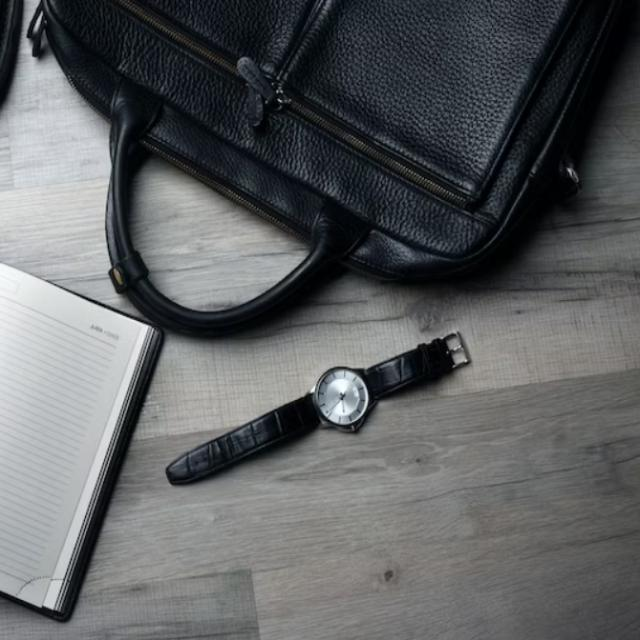Watch: (166, 326, 473, 486)
